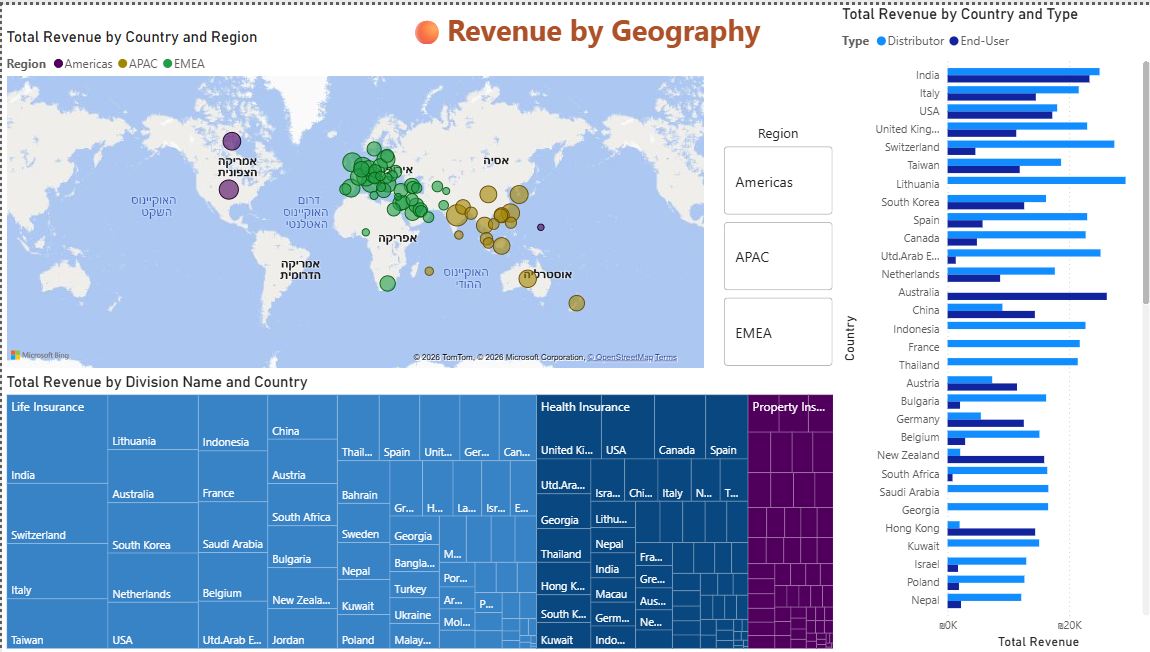

Layout of this report page (visuals, bound fields, positions):
{"tool":"powerbi","page":{"name":"🟠 Revenue by Geography","canvas":[1280,720],"ordinal":3},"visuals":[{"type":"map","fields":{"Category":["Customers.Country"],"Size":["M.Total Revenue"],"Series":["Customers.Region"]},"box":[0,25,785,383.3],"z":0},{"type":"clusteredBarChart","fields":{"Category":["Customers.Country"],"Y":["M.Total Revenue"],"Series":["Customers.Type"]},"box":[928.3,0,351.7,720],"z":1000},{"type":"advancedSlicerVisual","fields":{"Label":["M.Total Customers"],"Values":["Customers.Region"]},"box":[796.7,131.7,131.7,276.7],"z":2000},{"type":"treemap","fields":{"Group":["Products.Division Name"],"Details":["Customers.Country"],"Values":["M.Total Revenue"]},"box":[0,408.3,928.3,311.7],"z":3000},{"type":"textbox","box":[393.3,0,510,61.7],"z":3001}]}

Visuals, with their boxes in screenshot pixels (x1, y1, x2, y2), scaled from the page's 1280x720 canvas onto the 1150x652 screenshot:
map - Customers.Country x M.Total Revenue: (left=0, top=23, right=705, bottom=370)
clusteredBarChart - Customers.Country x M.Total Revenue: (left=834, top=0, right=1149, bottom=651)
advancedSlicerVisual - M.Total Customers x Customers.Region: (left=716, top=119, right=834, bottom=370)
treemap - Products.Division Name x Customers.Country: (left=0, top=370, right=834, bottom=651)
textbox: (left=353, top=0, right=812, bottom=56)
